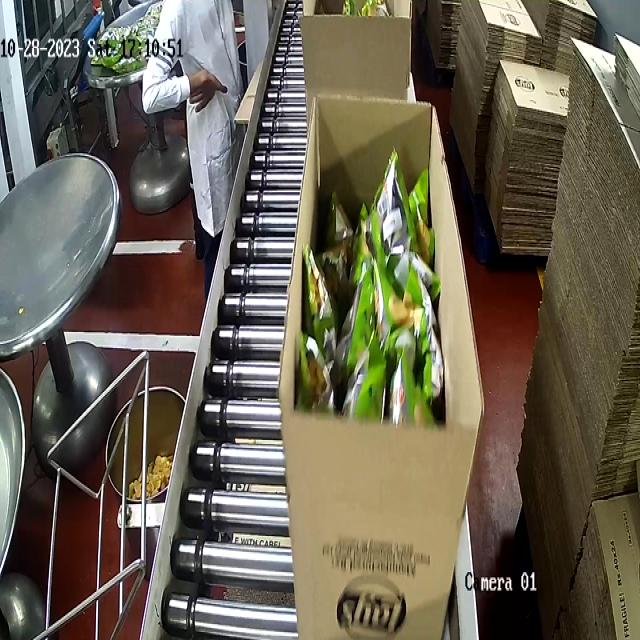YOGURT_HERB: (296, 147, 444, 425)
